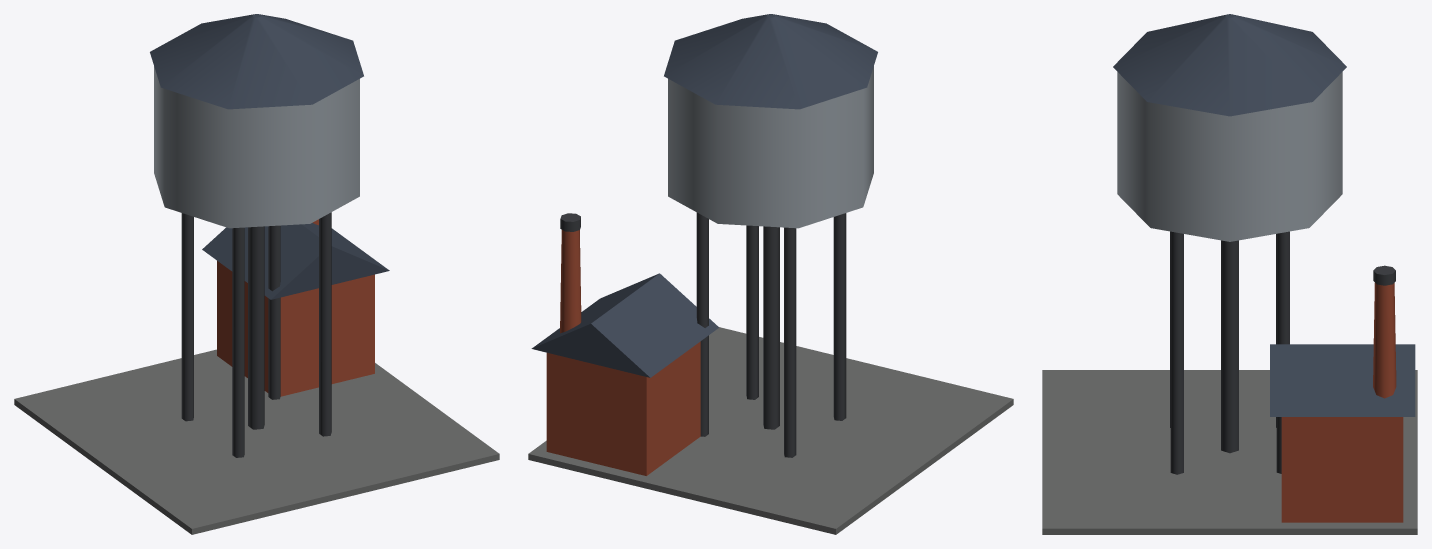
File: bld_special_water_works_a05_lod1.glb
3 views of the same model, side by side, from view 1: azimuth 30°, elevation 25°; view 2: azimuth 150°, elevation 25°; view 3: azimuth 270°, elevation 25° (orthographic). The views are drawn at different scales.
Parts seen in each view (by area): view 1: body; view 2: body; view 3: body.
Part boxes in pixels (<box>): body: <box>14,14,499,534</box>; body: <box>528,14,1013,534</box>; body: <box>1042,14,1417,534</box>.
Size of the model in its own units: 8 by 10.35 by 8.
